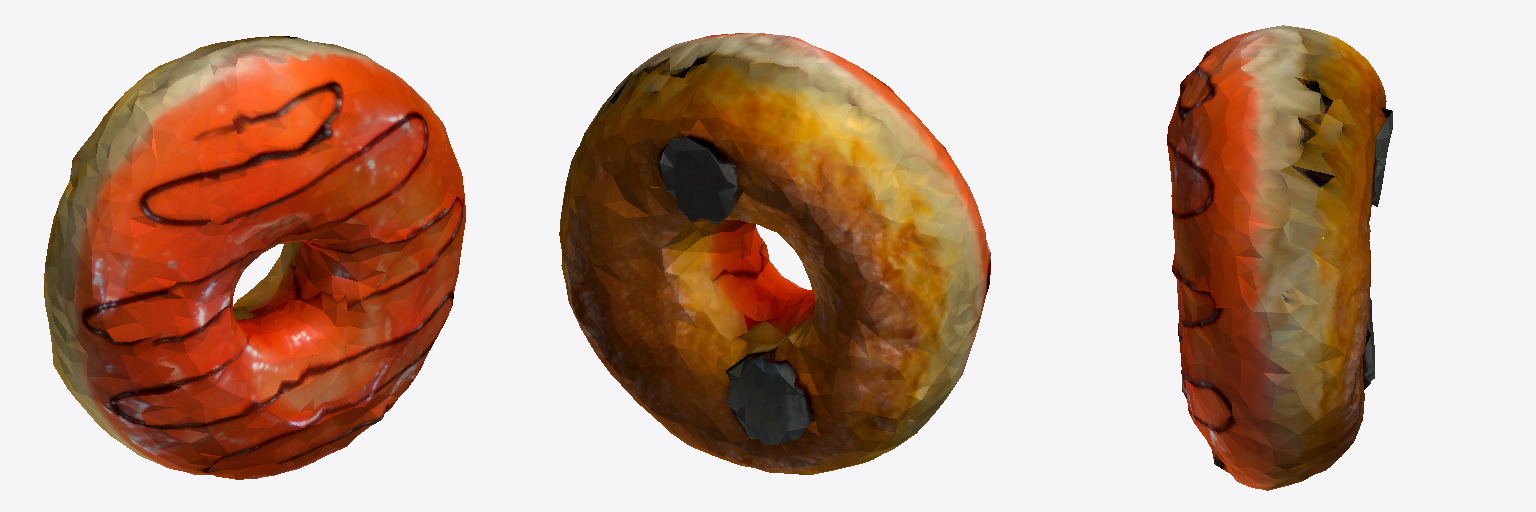
3 views of the same model, side by side, from view 1: azimuth 30°, elevation 25°; view 2: azimuth 150°, elevation 25°; view 3: azimuth 270°, elevation 25° (orthographic).
Size of the model in its own units: 0.0971 by 0.0986 by 0.048.
Materials: 1 (1 with a texture image).